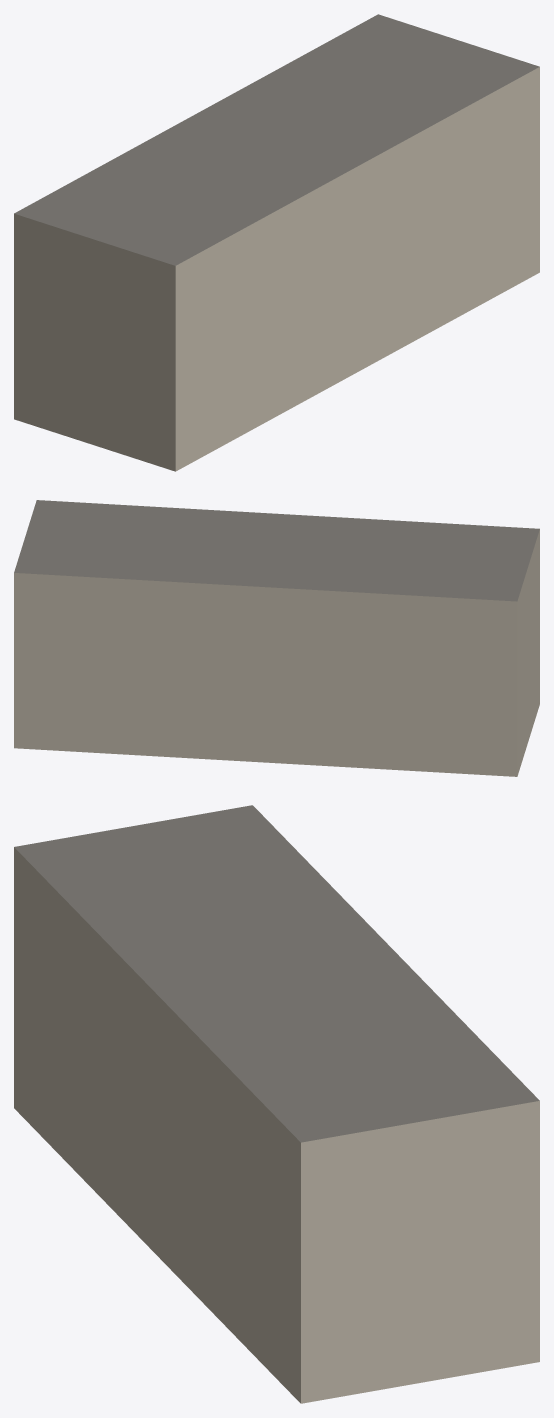
3 renders of one model, top to bottom at view 1: azimuth 30°, elevation 25°; view 2: azimuth 150°, elevation 25°; view 3: azimuth 270°, elevation 25°, orthographic. The views are drawn at different scales.
Parts seen in each view (by area): view 1: HP-w1286965210; view 2: HP-w1286965210; view 3: HP-w1286965210.
Boxes of the visible parts, x1,y1,x2,y2 form: HP-w1286965210: (14,14,539,471); HP-w1286965210: (14,500,539,776); HP-w1286965210: (14,805,539,1403).
Bounding box in the file's own units: 49.88 × 18 × 32.85.
